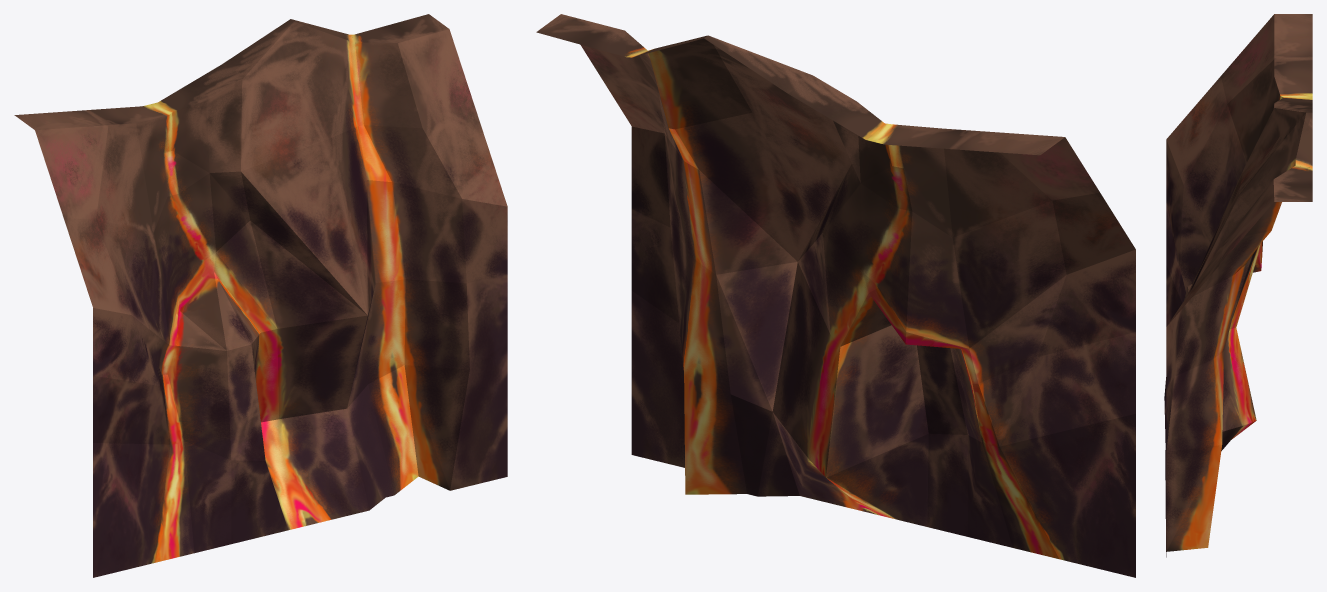
Rendered from wall-fire.fbx.
3 renders of one model, left to right at view 1: azimuth 30°, elevation 25°; view 2: azimuth 150°, elevation 25°; view 3: azimuth 270°, elevation 25°, orthographic. The views are drawn at different scales.
Visible parts, largest first — view 1: wall-lava; view 2: wall-lava; view 3: wall-lava.
Part boxes in pixels (left/top/right/bottom): wall-lava: left=14, top=14, right=507, bottom=577; wall-lava: left=536, top=14, right=1135, bottom=577; wall-lava: left=1164, top=14, right=1312, bottom=557.
Bounding box in the file's own units: 300 × 300 × 100.
